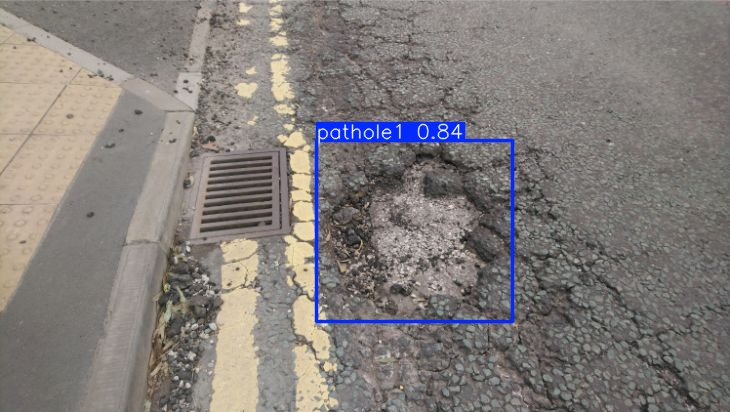pothole: (322, 145, 503, 313)
